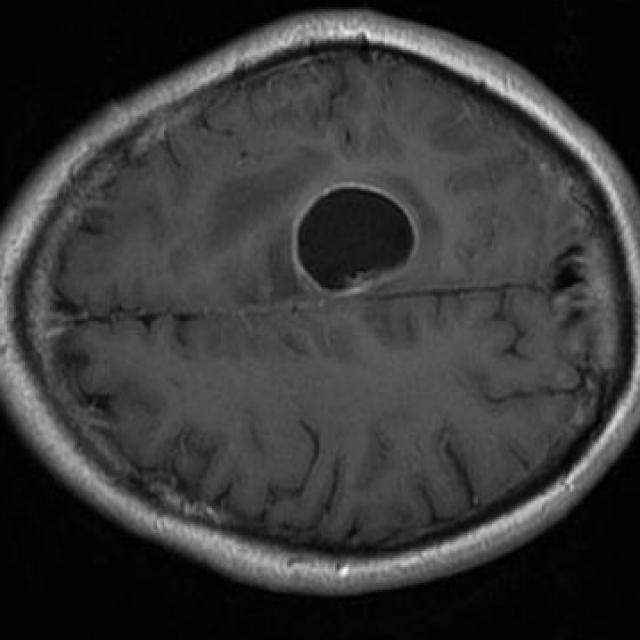glioma: (292, 182, 419, 294)
